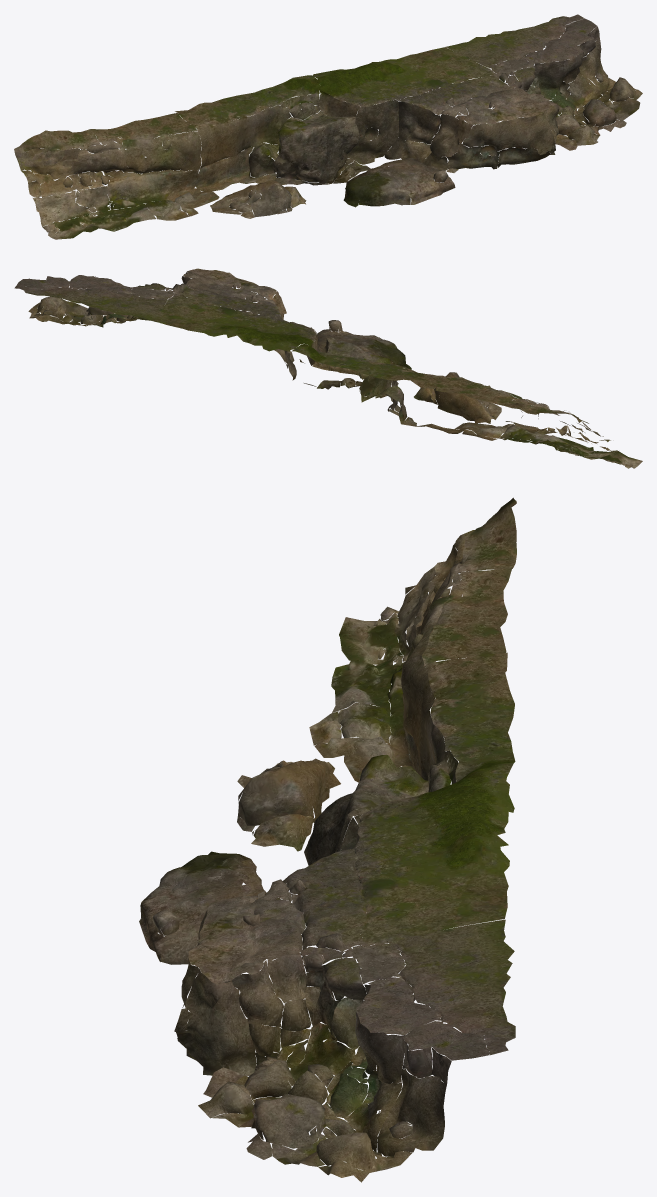
File: coastal-cliff-04.glb
3 renders of one model, top to bottom at view 1: azimuth 30°, elevation 25°; view 2: azimuth 150°, elevation 25°; view 3: azimuth 270°, elevation 25°, orthographic. The views are drawn at different scales.
Parts seen in each view (by area): view 1: coastal_cliff_04; view 2: coastal_cliff_04; view 3: coastal_cliff_04.
Part boxes in pixels (x1,y1,x2,y2): coastal_cliff_04: (14,14,642,239); coastal_cliff_04: (14,268,642,468); coastal_cliff_04: (139,497,516,1182).
Size of the model in its own units: 86.75 by 11.01 by 24.23.
1 material, 1 textured.
